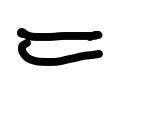eqv: (14, 26, 108, 68)
